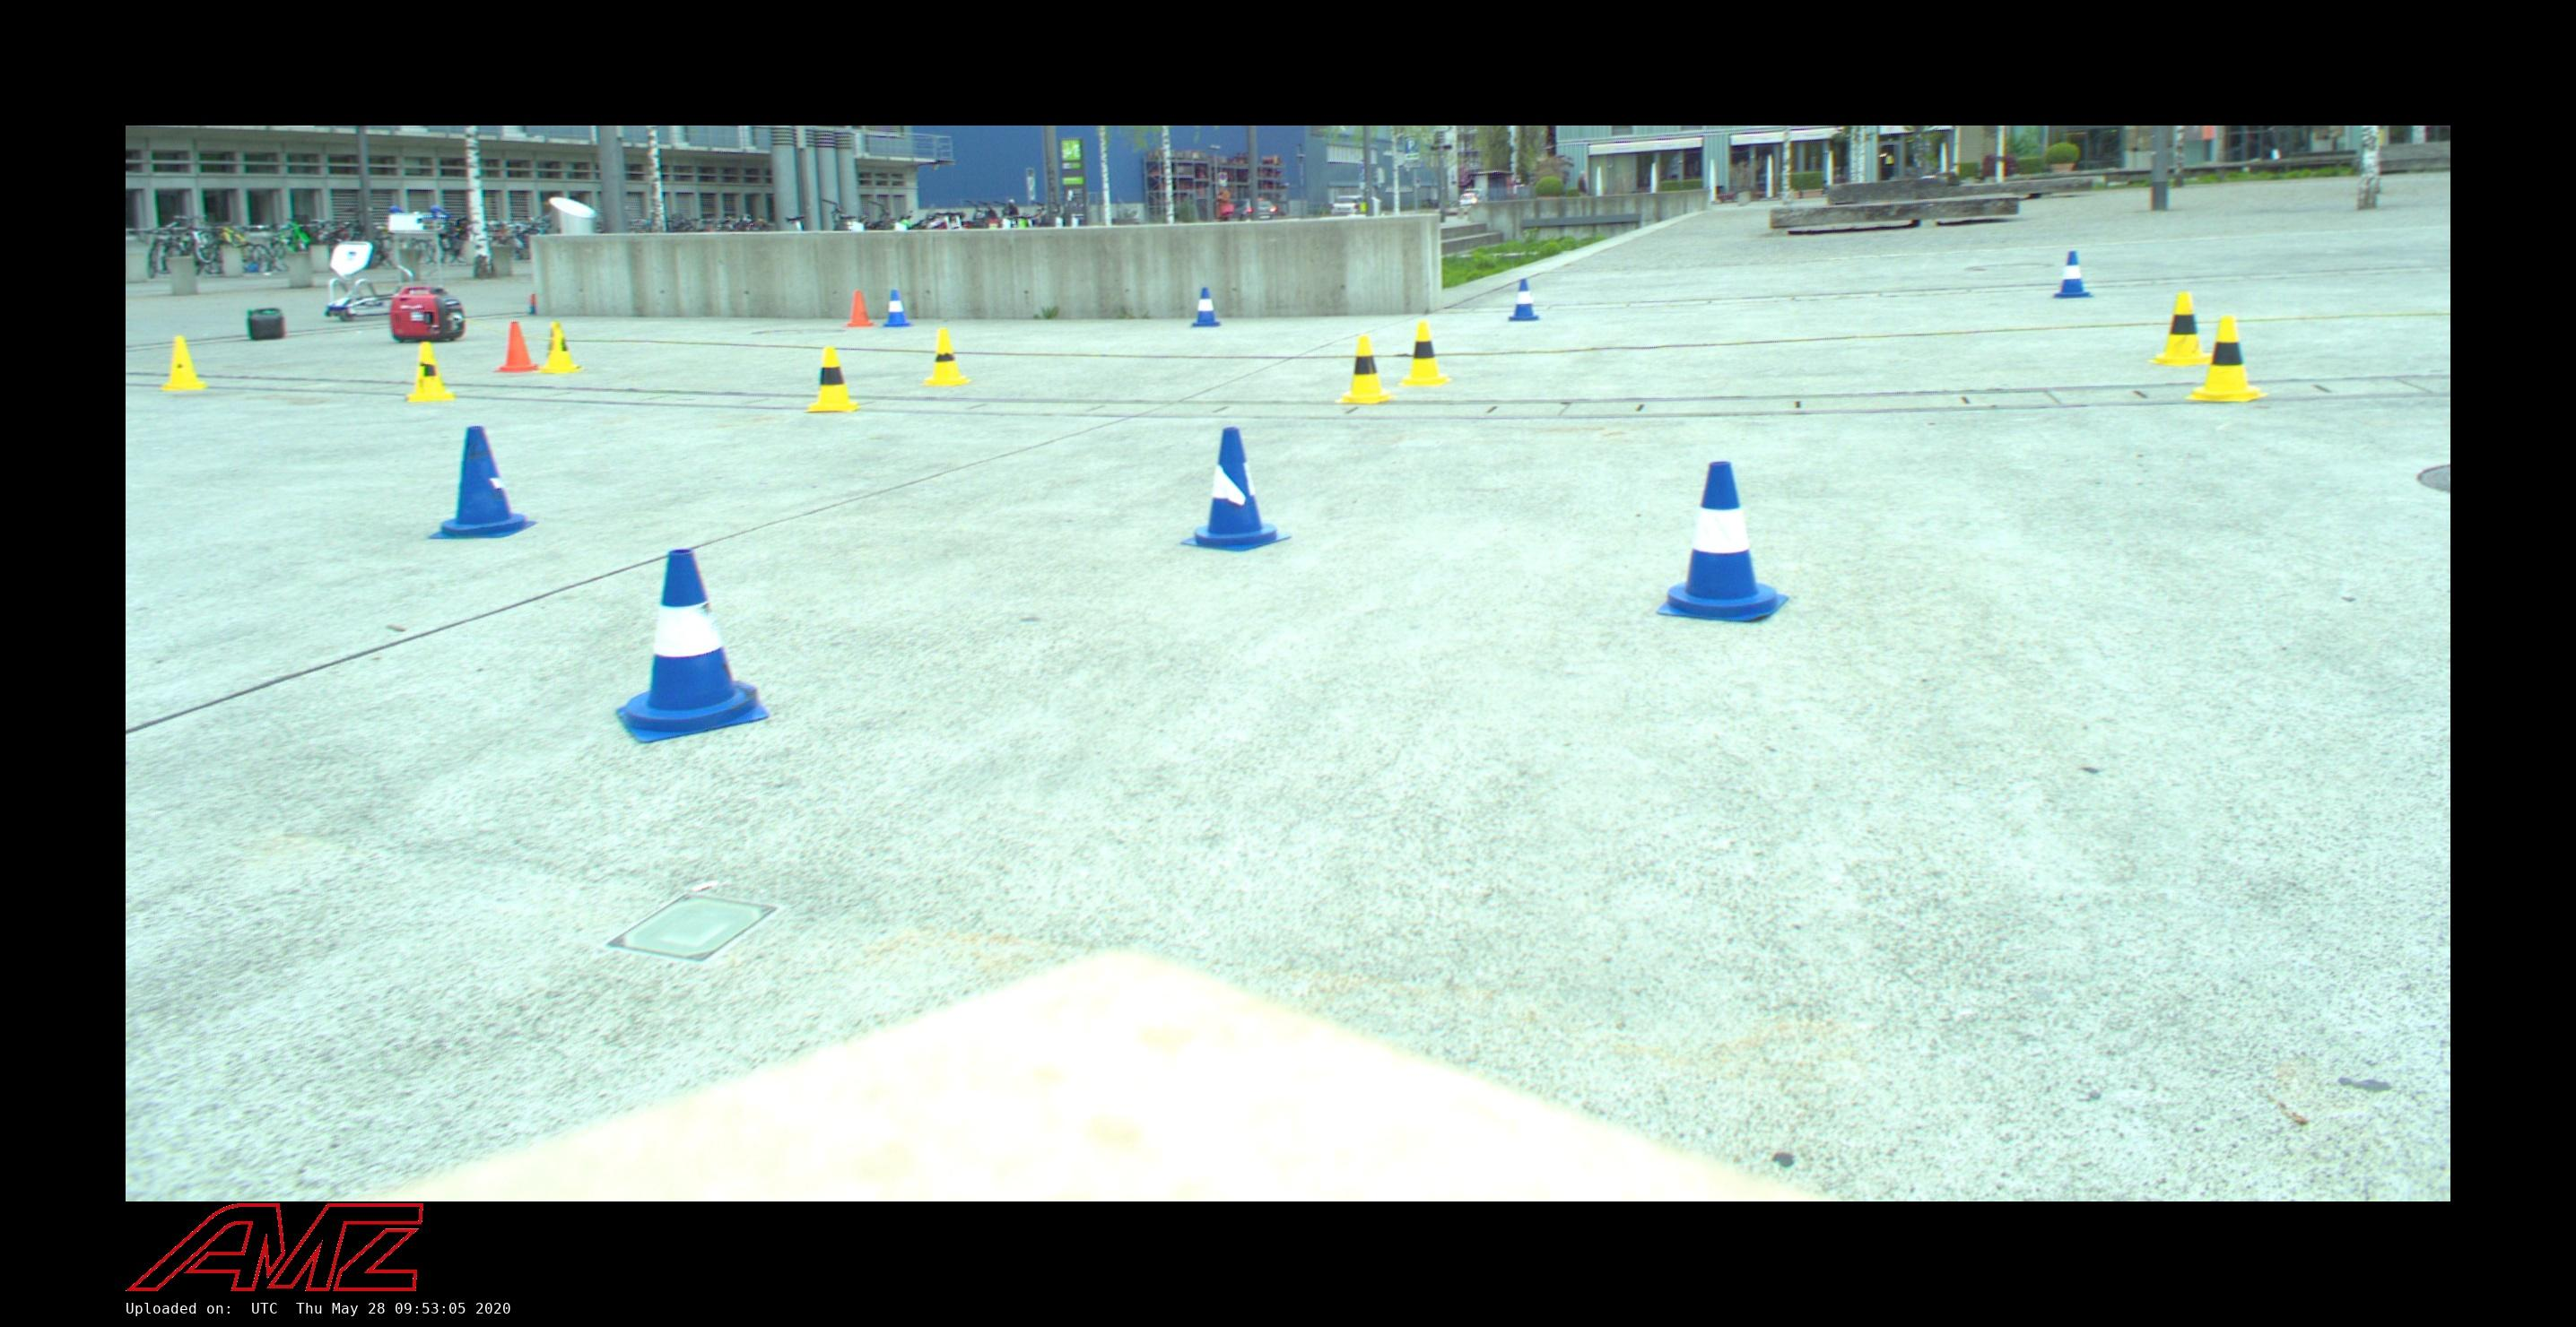blue_cone: (616, 550, 768, 743), (1657, 460, 1789, 621), (1186, 427, 1285, 552), (432, 427, 530, 537), (2048, 252, 2100, 298), (1505, 278, 1544, 322), (1186, 284, 1224, 328), (882, 289, 912, 327)
orange_cone: (494, 322, 538, 372), (845, 289, 877, 328)
yellow_cone: (2183, 317, 2268, 403), (2149, 293, 2214, 364), (802, 347, 865, 413), (1337, 337, 1395, 405), (1396, 322, 1450, 383), (401, 344, 457, 401), (917, 328, 972, 388), (151, 339, 210, 391), (537, 323, 575, 372)
